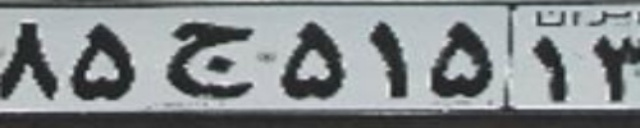1: (367, 22, 409, 97), (529, 33, 566, 100)
3: (593, 33, 639, 100)
5: (424, 20, 496, 97), (69, 21, 137, 100), (279, 20, 345, 99)
8: (0, 22, 56, 100)
jim: (167, 21, 257, 97)
